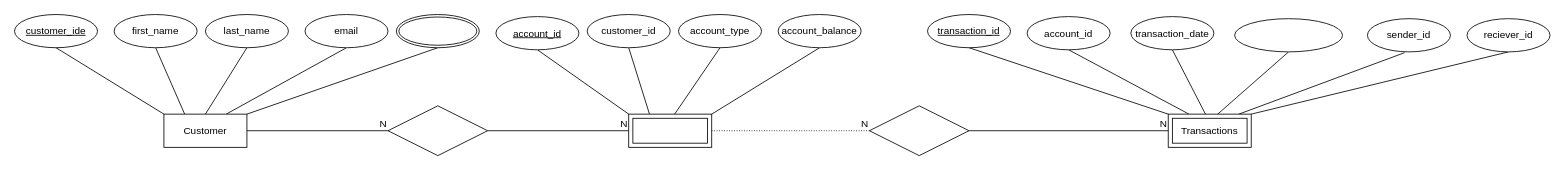
This 1565x170 diagram has some shape labels left out. Each missing label, with the centre of its shape:
"Accounts" goes at point 670,130.
"has" goes at point 437,130.
"have" goes at point 919,130.
"phone_number" goes at point 437,31.
"transaction_amount" goes at point 1288,35.
